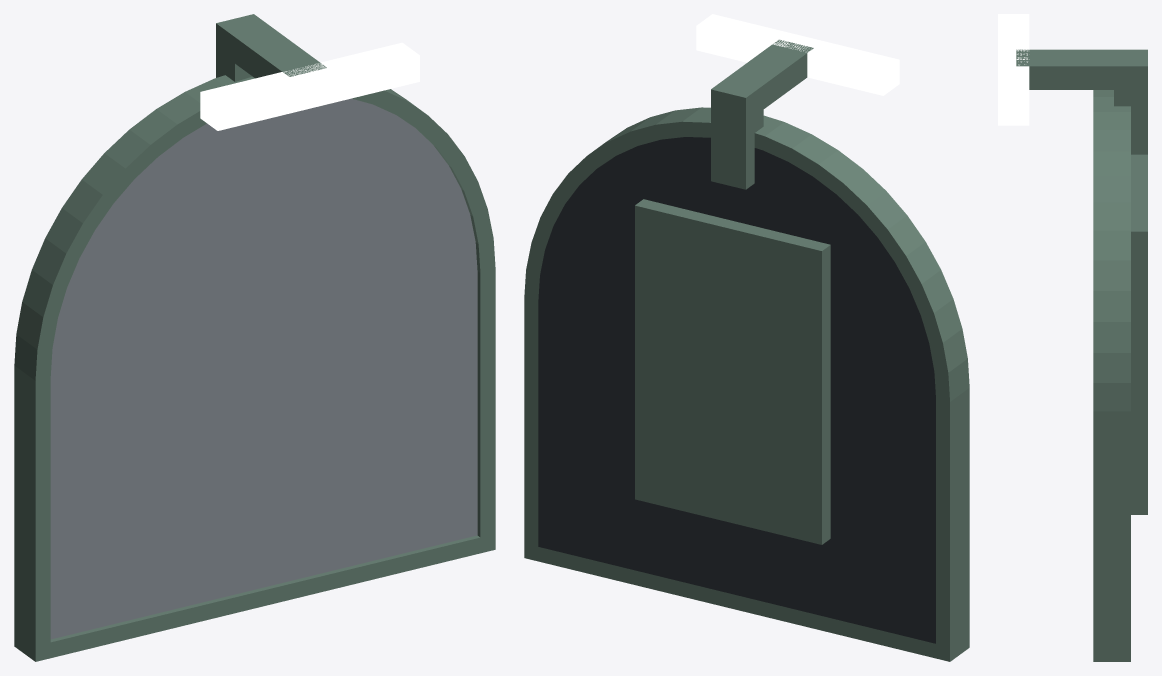
File: arch.glb
3 views of the same model, side by side, from view 1: azimuth 30°, elevation 25°; view 2: azimuth 150°, elevation 25°; view 3: azimuth 270°, elevation 25° (orthographic). The views are drawn at different scales.
Parts seen in each view (by area): view 1: makeup-face-center, makeup-frame-center, makeup-lamp, makeup-lamp-arm, makeup-lamp-riser; view 2: makeup-back-center, makeup-wall-mount, makeup-frame-center, makeup-lamp, makeup-lamp-arm, makeup-lamp-riser; view 3: makeup-frame-center, makeup-wall-mount, makeup-lamp-arm, makeup-lamp, makeup-lamp-riser.
Part boxes in pixels (x1,y1,x2,y2): makeup-face-center: (50, 98, 477, 639); makeup-frame-center: (14, 75, 495, 661); makeup-lamp: (200, 42, 419, 130); makeup-lamp-arm: (216, 14, 326, 78); makeup-lamp-riser: (216, 33, 252, 81); makeup-back-center: (538, 137, 935, 643); makeup-wall-mount: (635, 199, 830, 544); makeup-frame-center: (524, 107, 969, 661); makeup-lamp: (696, 14, 899, 95); makeup-lamp-arm: (711, 39, 813, 120); makeup-lamp-riser: (711, 94, 763, 189); makeup-frame-center: (1093, 90, 1130, 661); makeup-wall-mount: (1131, 154, 1147, 514); makeup-lamp-arm: (1016, 49, 1147, 89); makeup-lamp: (998, 14, 1029, 125); makeup-lamp-riser: (1114, 74, 1147, 154).
Size of the model in its own units: 0.364 by 0.427 by 0.115.
